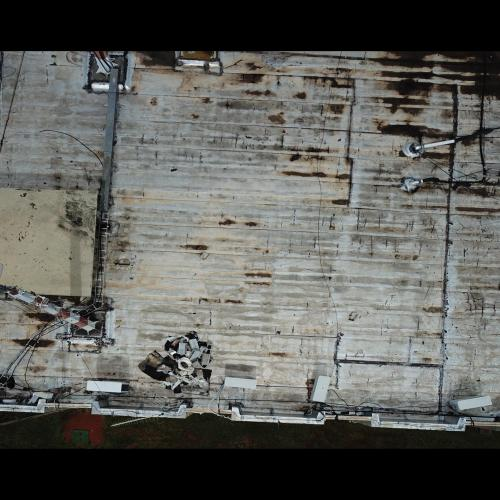conde: (308, 374, 335, 406), (448, 395, 496, 412), (85, 379, 133, 395), (222, 375, 261, 393)
